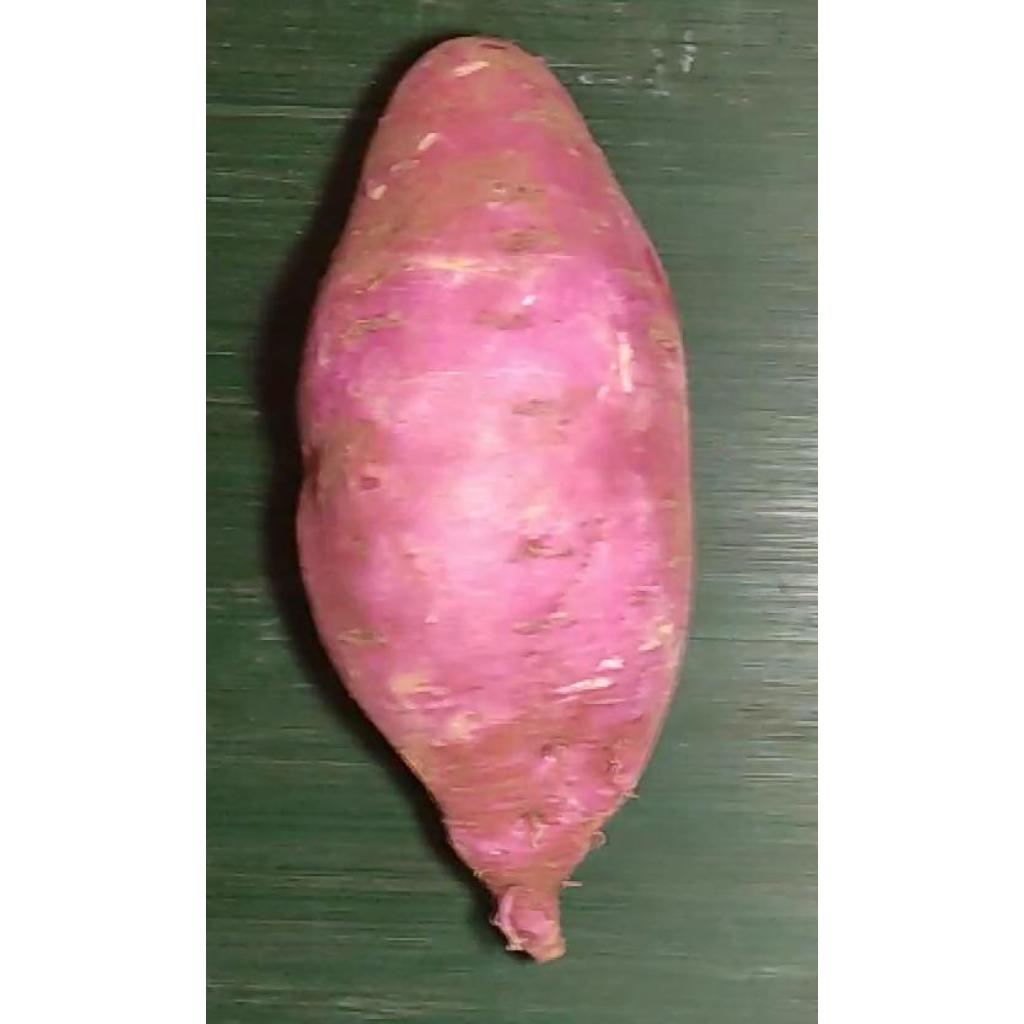Sweet Potato: (293, 37, 693, 968)
